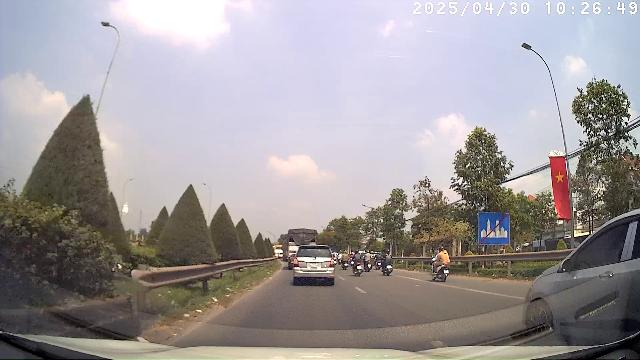421-ket-thuc-khu-dong-dan-cu: (478, 212, 509, 244)
